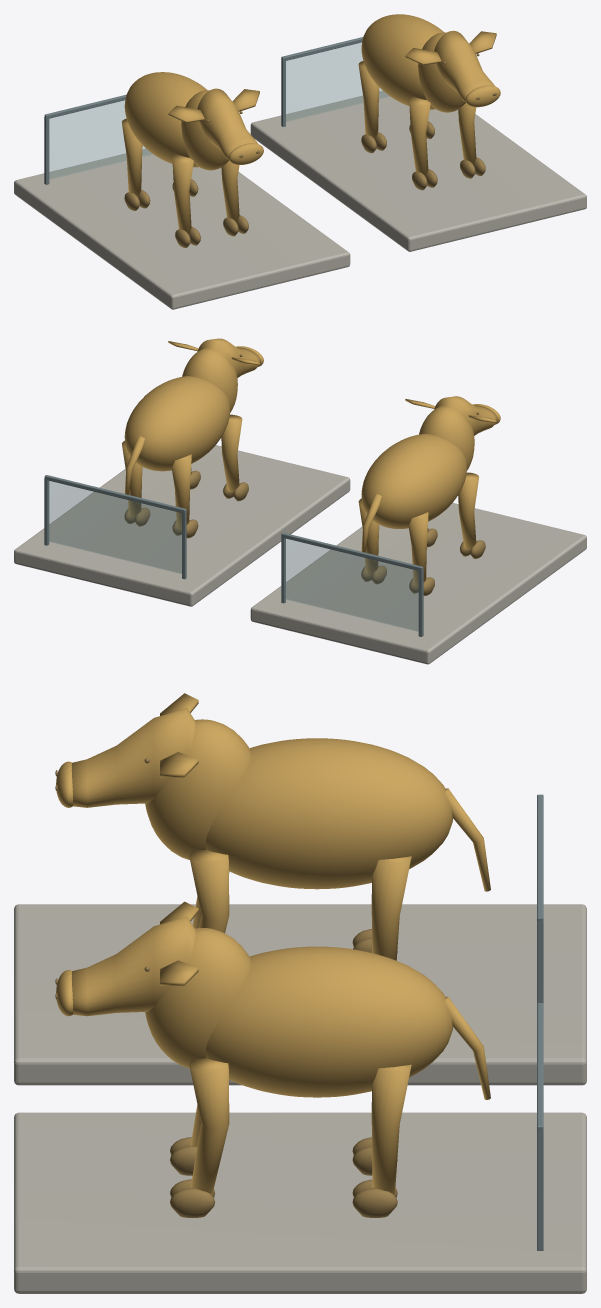
Rendered from kingdom-sites.glb.
3 views of the same model, one above another, from view 1: azimuth 30°, elevation 25°; view 2: azimuth 150°, elevation 25°; view 3: azimuth 270°, elevation 25° (orthographic). The views are drawn at different scales.
Parts seen in each view (by area): view 1: kingdom-sites-kingdom-modern-pale-fixture.001, kingdom-sites-kingdom-modern-pale-fixture, kingdom-sites-kingdom-selected-gold-colour-not-fabrication.0, kingdom-sites-kingdom-selected-gold-colour-not-fabrication, kingdom-sites-kingdom-modern-transparent-capacity-layer, kingdom-sites-kingdom-modern-neutral-fixture, kingdom-sites-kingdom-selected-gold-hoof-and-detail, kingdom-sites-kingdom-selected-gold-hoof-and-detail.001; view 2: kingdom-sites-kingdom-modern-pale-fixture, kingdom-sites-kingdom-modern-pale-fixture.001, kingdom-sites-kingdom-modern-transparent-capacity-layer, kingdom-sites-kingdom-selected-gold-colour-not-fabrication.0, kingdom-sites-kingdom-selected-gold-colour-not-fabrication, kingdom-sites-kingdom-modern-neutral-fixture, kingdom-sites-kingdom-selected-gold-hoof-and-detail.001, kingdom-sites-kingdom-selected-gold-hoof-and-detail; view 3: kingdom-sites-kingdom-modern-pale-fixture.001, kingdom-sites-kingdom-modern-pale-fixture, kingdom-sites-kingdom-selected-gold-colour-not-fabrication.0, kingdom-sites-kingdom-selected-gold-colour-not-fabrication, kingdom-sites-kingdom-selected-gold-hoof-and-detail.001, kingdom-sites-kingdom-modern-neutral-fixture.
Part boxes in pixels (bbox=[...]): kingdom-sites-kingdom-modern-pale-fixture.001: bbox=[250, 91, 586, 251]; kingdom-sites-kingdom-modern-pale-fixture: bbox=[14, 148, 350, 309]; kingdom-sites-kingdom-selected-gold-colour-not-fabrication.0: bbox=[358, 14, 500, 175]; kingdom-sites-kingdom-selected-gold-colour-not-fabrication: bbox=[122, 72, 263, 233]; kingdom-sites-kingdom-modern-transparent-capacity-layer: bbox=[49, 42, 389, 179]; kingdom-sites-kingdom-modern-neutral-fixture: bbox=[44, 37, 363, 184]; kingdom-sites-kingdom-selected-gold-hoof-and-detail: bbox=[124, 111, 259, 247]; kingdom-sites-kingdom-selected-gold-hoof-and-detail.001: bbox=[361, 53, 496, 190]; kingdom-sites-kingdom-modern-pale-fixture: bbox=[250, 503, 586, 664]; kingdom-sites-kingdom-modern-pale-fixture.001: bbox=[14, 445, 350, 606]; kingdom-sites-kingdom-modern-transparent-capacity-layer: bbox=[48, 481, 418, 631]; kingdom-sites-kingdom-selected-gold-colour-not-fabrication.0: bbox=[122, 338, 263, 528]; kingdom-sites-kingdom-selected-gold-colour-not-fabrication: bbox=[358, 396, 500, 586]; kingdom-sites-kingdom-modern-neutral-fixture: bbox=[44, 475, 423, 636]; kingdom-sites-kingdom-selected-gold-hoof-and-detail.001: bbox=[124, 354, 248, 538]; kingdom-sites-kingdom-selected-gold-hoof-and-detail: bbox=[361, 412, 485, 595]; kingdom-sites-kingdom-modern-pale-fixture.001: bbox=[14, 1112, 586, 1293]; kingdom-sites-kingdom-modern-pale-fixture: bbox=[14, 904, 586, 1085]; kingdom-sites-kingdom-selected-gold-colour-not-fabrication.0: bbox=[56, 901, 490, 1195]; kingdom-sites-kingdom-selected-gold-colour-not-fabrication: bbox=[56, 693, 490, 960]; kingdom-sites-kingdom-selected-gold-hoof-and-detail.001: bbox=[55, 966, 397, 1217]; kingdom-sites-kingdom-modern-neutral-fixture: bbox=[537, 794, 543, 1250].
Bounding box in the file's own units: 1.3 × 0.493 × 0.86.
